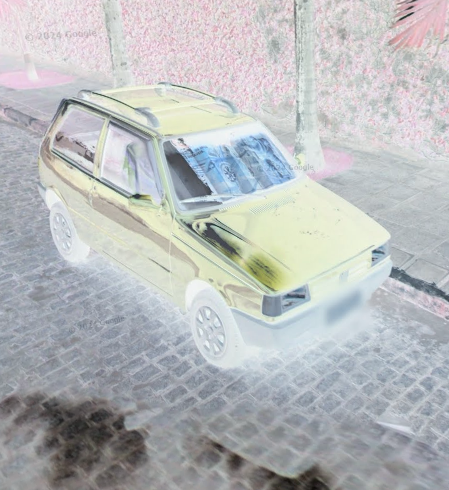car: (36, 80, 394, 371)
